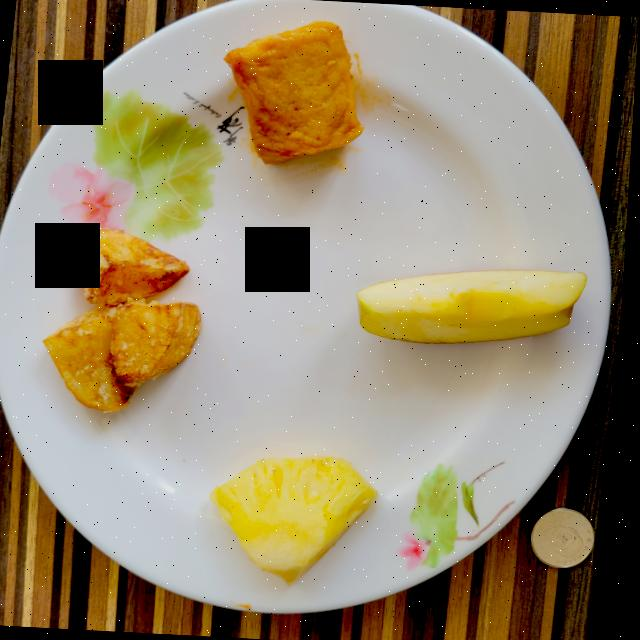apple -sliced-: (361, 269, 591, 343)
coin: (538, 507, 601, 567)
creamy tofu: (226, 20, 365, 163)
fried potato: (48, 226, 206, 411)
pineapple: (217, 455, 383, 585)
